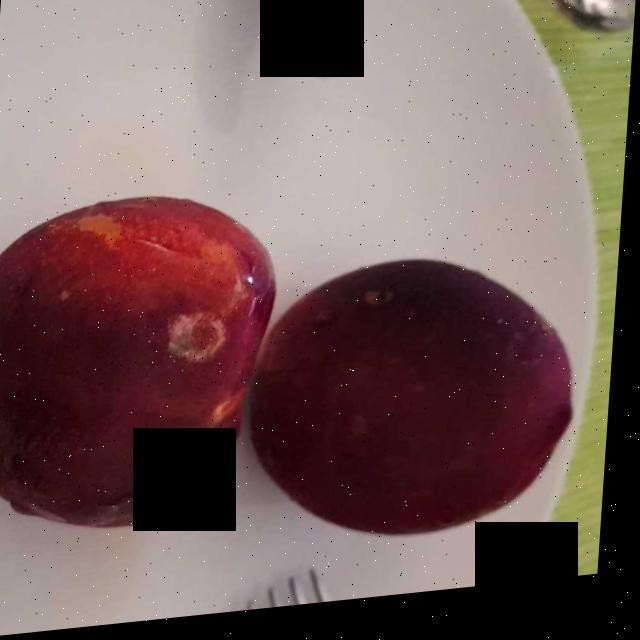nectarine: (0, 192, 587, 559)
